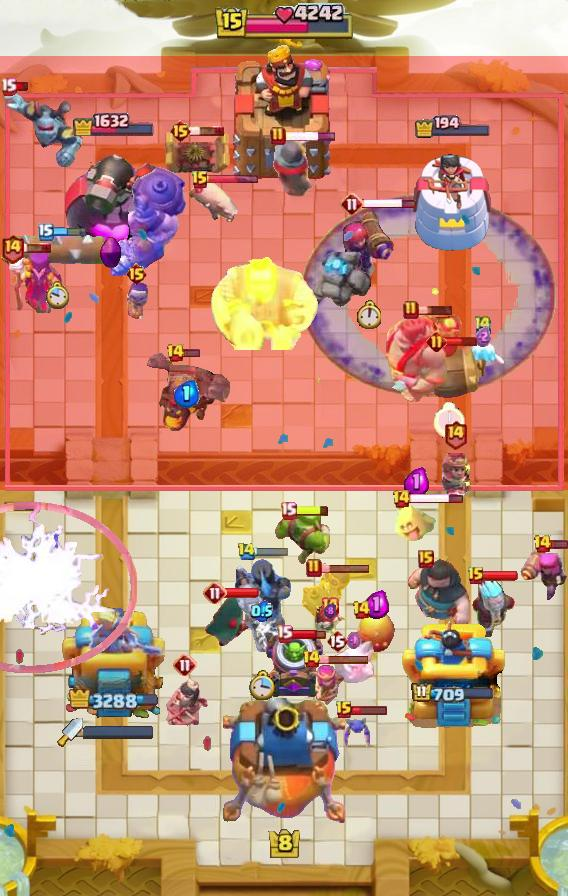archer: (309, 663, 345, 711)
bandit: (204, 593, 256, 649)
bar: (409, 492, 464, 505), (362, 197, 417, 210), (284, 131, 337, 142), (318, 654, 370, 665), (319, 563, 371, 574), (207, 174, 259, 185), (294, 504, 330, 517), (417, 304, 454, 316), (224, 587, 260, 599), (483, 570, 519, 582), (16, 242, 52, 254), (189, 125, 225, 137), (291, 628, 326, 640), (52, 226, 87, 238), (351, 705, 388, 716), (254, 546, 289, 557), (444, 336, 478, 347), (550, 539, 568, 550), (182, 348, 201, 358), (13, 81, 30, 92)
bar-level: (443, 419, 468, 450), (0, 233, 25, 264), (173, 653, 197, 677), (203, 581, 227, 605), (340, 192, 364, 216), (125, 262, 148, 286), (169, 119, 192, 143), (326, 629, 348, 653), (426, 331, 447, 352), (473, 314, 493, 335), (320, 596, 340, 616), (302, 649, 321, 669), (352, 600, 371, 620), (533, 534, 552, 554), (392, 489, 411, 509), (166, 343, 185, 363), (237, 542, 256, 561), (335, 700, 353, 720), (467, 566, 485, 586), (191, 170, 209, 190), (276, 624, 293, 643), (280, 501, 297, 520), (0, 77, 17, 96), (306, 558, 322, 578), (403, 300, 419, 320), (270, 126, 286, 146), (418, 550, 434, 568), (38, 223, 54, 241)
barbarian-barrel: (409, 346, 489, 400)
bat-evolution: (341, 712, 373, 754)
bomber: (311, 606, 349, 652)
bomber-evolution: (300, 565, 352, 621)
cannoneer-tower: (64, 138, 164, 256)
clock: (433, 402, 465, 439), (249, 670, 276, 700), (356, 300, 381, 329), (45, 281, 69, 310)
dagger-duchess-tower: (60, 607, 168, 731)
dagger-duchess-tower-bar: (83, 725, 155, 739)
elixir: (404, 467, 429, 497), (174, 380, 200, 408), (364, 590, 389, 619), (251, 600, 273, 622), (475, 326, 491, 347), (347, 631, 362, 650), (324, 603, 336, 619)
evolution-symbol: (100, 236, 122, 270)
firecracker: (520, 543, 568, 605)
firecracker-evolution: (341, 205, 395, 279)
goblin-brawler: (274, 506, 330, 564)
golemite: (305, 251, 371, 313)
heal-spirit: (394, 500, 438, 544)
hog: (186, 178, 242, 228)
ice-spirit: (332, 637, 376, 683), (462, 338, 504, 376)
ice-wizard: (460, 572, 522, 640)
king-tower: (223, 698, 345, 826), (230, 43, 338, 181)
king-tower-bar: (213, 3, 355, 43)
knight: (261, 136, 323, 202)
little-prince: (437, 453, 474, 501)
mega-minion: (0, 89, 84, 167)
mortar-evolution: (263, 630, 327, 700)
phoenix-egg: (356, 610, 396, 654)
princess: (160, 676, 210, 730)
queen-tower: (399, 617, 507, 731), (410, 145, 496, 256)
skeleton-evolution: (120, 281, 152, 323)
tesla: (161, 128, 231, 178)
the-log: (6, 234, 108, 270)
tower-bar: (72, 110, 156, 136), (69, 689, 159, 713), (411, 682, 495, 705), (414, 115, 492, 139)
witch: (0, 247, 64, 313)
